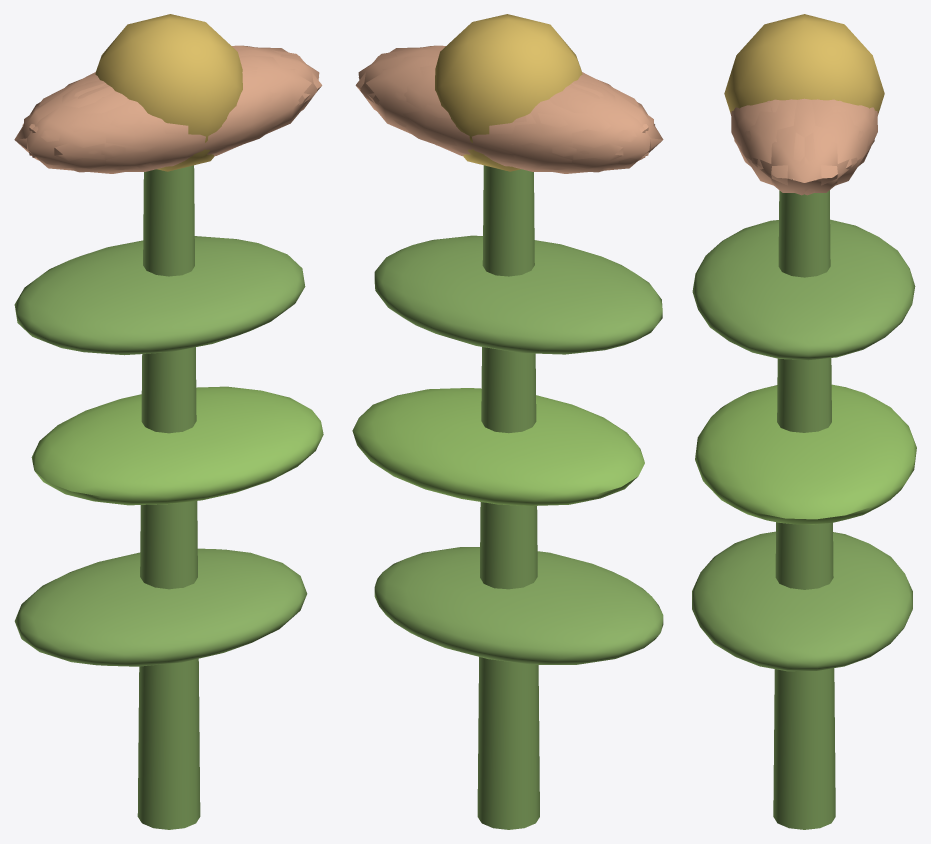
Rendered from crossandra-infundibuliformis.glb.
3 renders of one model, left to right at view 1: azimuth 30°, elevation 25°; view 2: azimuth 150°, elevation 25°; view 3: azimuth 270°, elevation 25°, orthographic.
Visible parts, largest first — view 1: stem, leaf2, leaf0, leaf1, center, petal6, petal2, petal1, petal5, petal7, petal0; view 2: stem, leaf2, leaf1, leaf0, center, petal3, petal7, petal8, petal4, petal2, petal0; view 3: leaf1, leaf2, stem, leaf0, center, petal0, petal4, petal5, petal8, petal1.
Boxes of the visible parts, x1,y1,x2,y2 form: stem: (137,165,200,829); leaf2: (14,236,305,355); leaf0: (14,548,307,666); leaf1: (31,386,323,505); center: (95,14,242,171); petal6: (32,85,229,172); petal2: (24,80,175,173); petal1: (101,64,304,170); petal5: (164,54,322,162); petal7: (14,74,114,165); petal0: (236,47,319,145); stem: (477,165,539,829); leaf2: (374,235,662,354); leaf1: (352,388,644,505); leaf0: (374,547,663,664); center: (435,14,582,171); petal3: (448,85,645,172); petal7: (502,80,653,173); petal8: (373,64,576,170); petal4: (355,54,513,162); petal2: (563,74,663,165); petal0: (358,47,441,145); leaf1: (695,384,916,524); leaf2: (692,219,915,360); stem: (773,190,835,829); leaf0: (692,531,912,671); center: (724,14,884,112); petal0: (745,98,863,192); petal4: (792,99,874,195); petal5: (734,99,816,195); petal8: (827,99,877,167); petal1: (731,99,781,167).
Size of the model in its own units: 0.1541 by 0.3938 by 0.1009.
